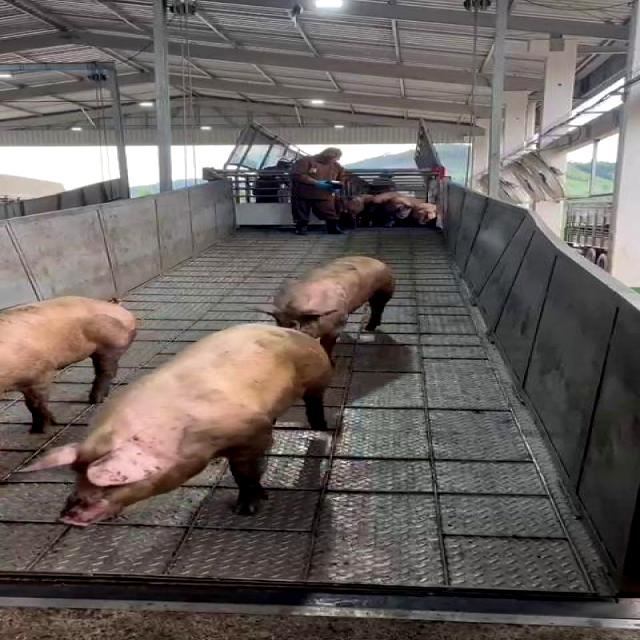pig: (25, 324, 331, 521), (1, 296, 136, 431), (258, 257, 395, 351)
